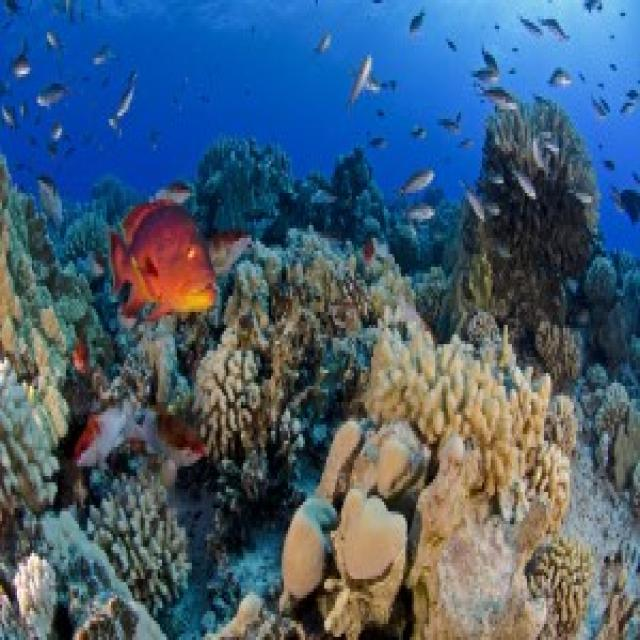Bleached: (364, 307, 554, 516), (283, 419, 430, 638), (408, 471, 556, 638), (88, 471, 187, 609), (189, 329, 270, 458), (1, 361, 59, 525), (528, 538, 592, 635), (12, 554, 54, 638)
